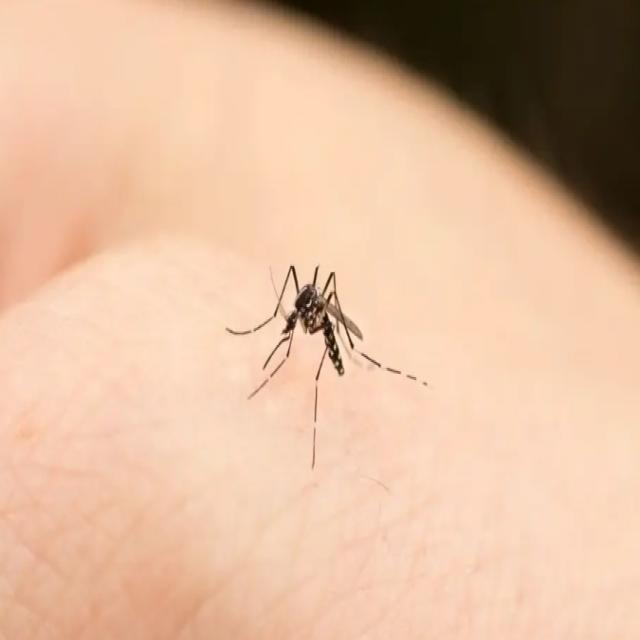Mosquito: (244, 231, 401, 472)
